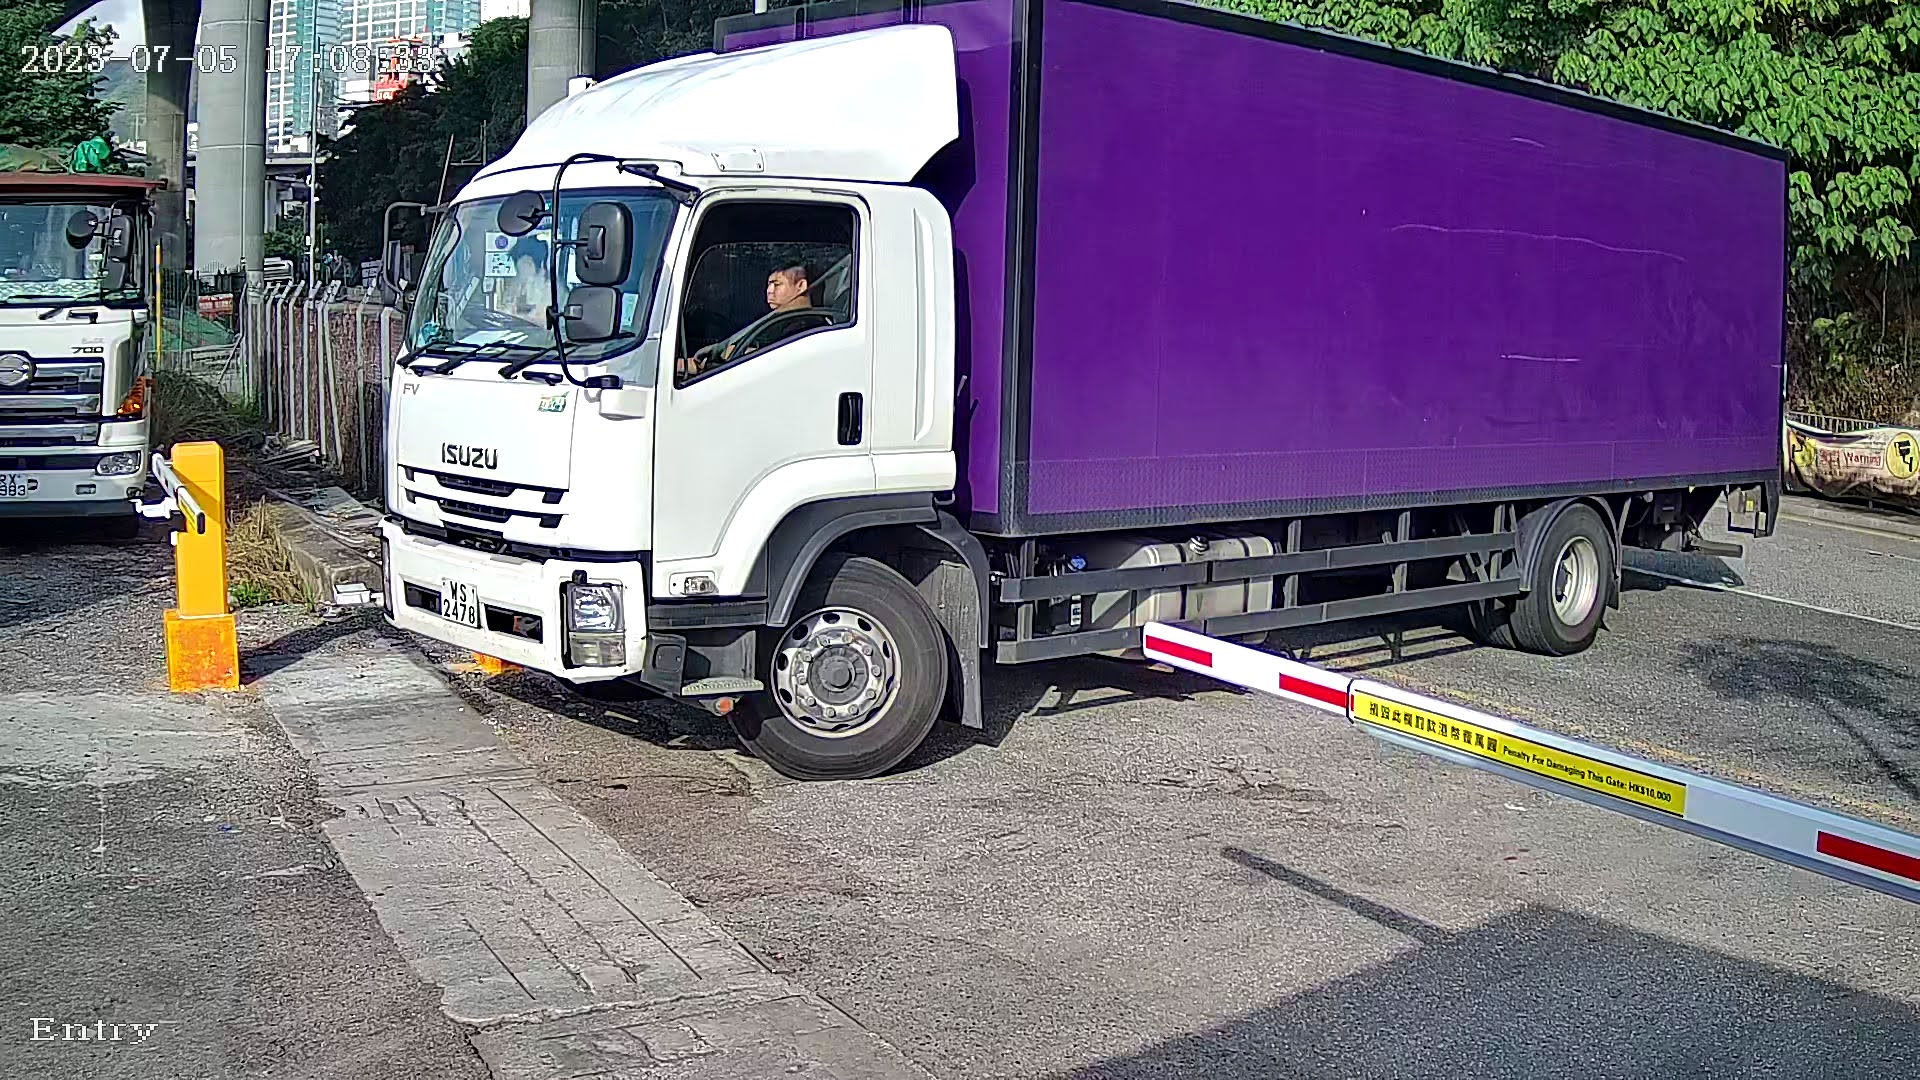truck: (345, 1, 1836, 815)
